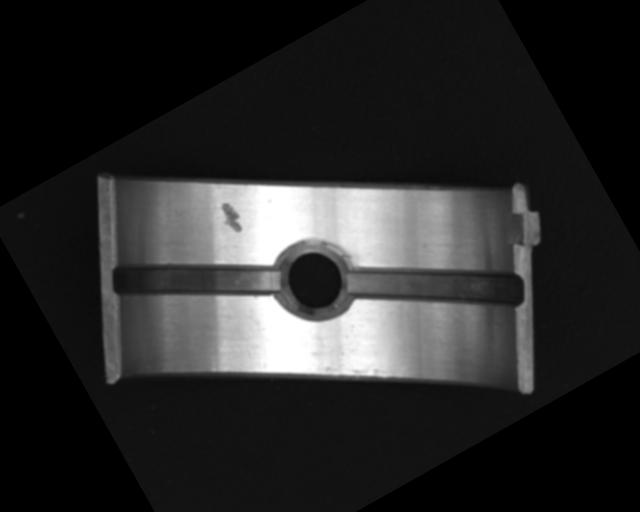bruise: (214, 197, 247, 237)
gap: (342, 200, 528, 372), (105, 198, 284, 358)
hole: (264, 226, 362, 329)
